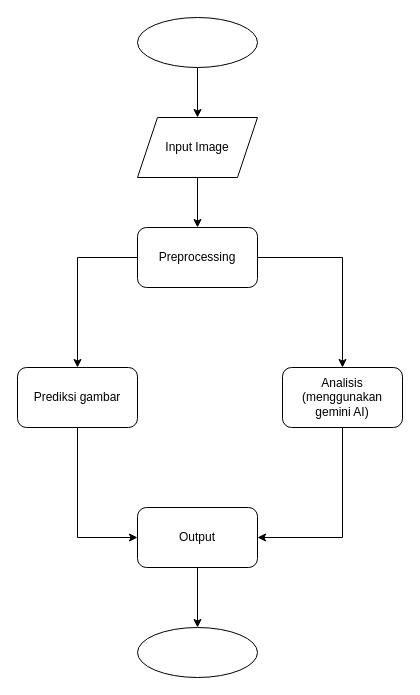
Some shapes in this 420 by 695 pixel diagram are drawn without their labels. The centre of each missing label's shape, as x and y in pixels:
End: point (197, 652)
Start: point (197, 42)
